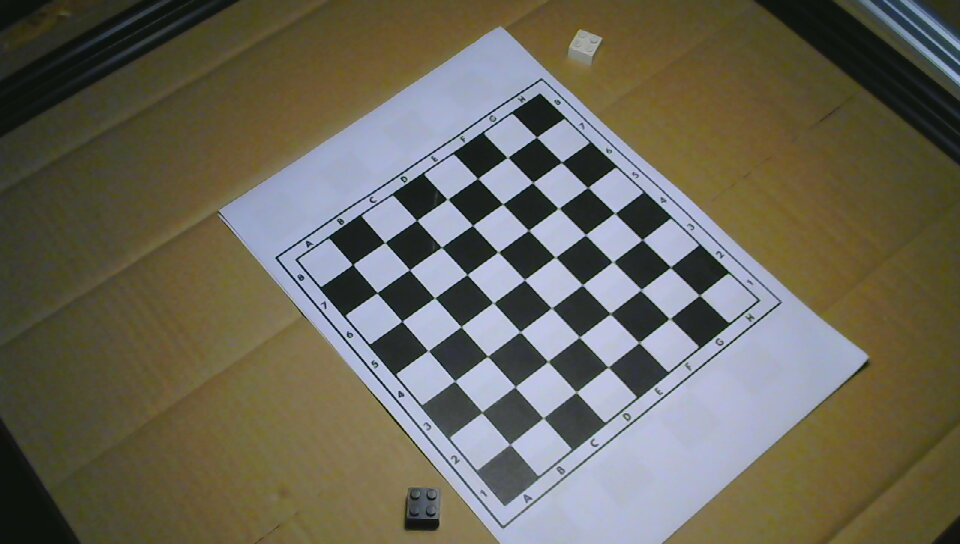bp: (405, 484, 442, 528)
wp: (566, 28, 605, 66)
